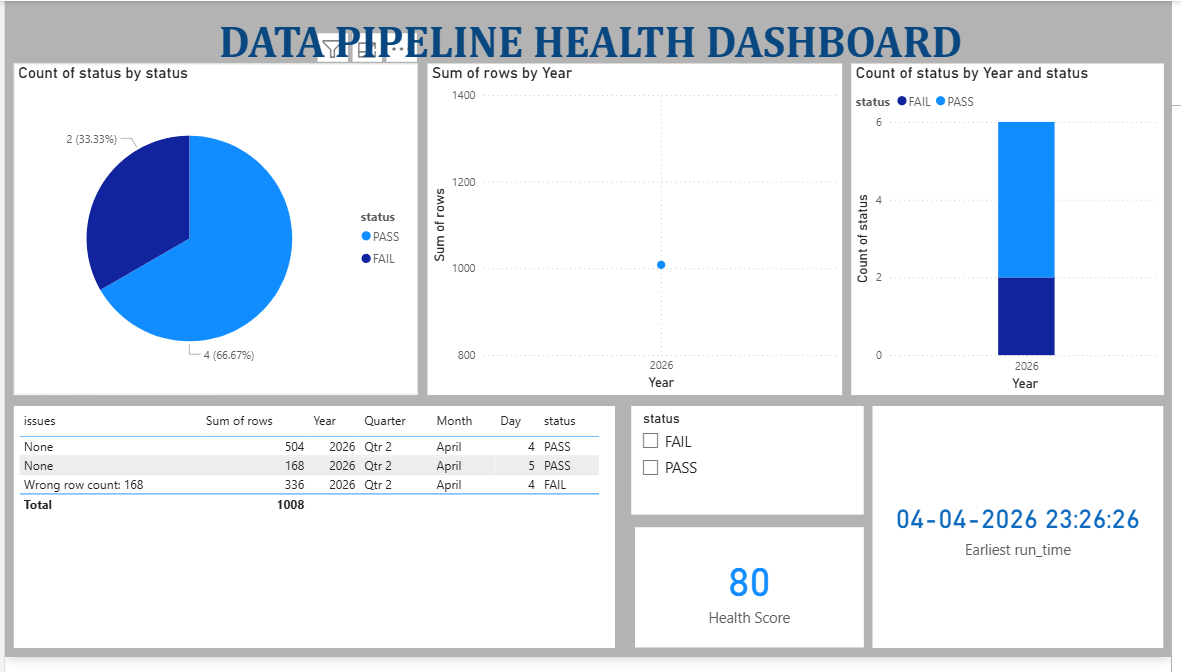

This screenshot's page, from the dashboard's own definition file:
{"tool":"powerbi","page":{"name":"Page 1","canvas":[1280,720],"ordinal":0},"visuals":[{"type":"pieChart","fields":{"Category":["pipeline_logs.status"],"Y":["CountNonNull(pipeline_logs.status)"]},"box":[9.7,68.1,443.1,363.9],"z":0},{"type":"lineChart","fields":{"Category":["pipeline_logs.run_time.Variation.Date Hierarchy.Year","pipeline_logs.run_time.Variation.Date Hierarchy.Quarter","pipeline_logs.run_time.Variation.Date Hierarchy.Month","pipeline_logs.run_time.Variation.Date Hierarchy.Day"],"Y":["Sum(pipeline_logs.rows)"]},"box":[463.9,68.1,455.6,363.9],"z":1000},{"type":"tableEx","fields":{"Values":["pipeline_logs.issues","Sum(pipeline_logs.rows)","pipeline_logs.run_time.Variation.Date Hierarchy.Year","pipeline_logs.run_time.Variation.Date Hierarchy.Quarter","pipeline_logs.run_time.Variation.Date Hierarchy.Month","pipeline_logs.run_time.Variation.Date Hierarchy.Day","pipeline_logs.status"]},"box":[9.7,444.4,659.7,265.3],"z":2000},{"type":"slicer","fields":{"Values":["pipeline_logs.status"]},"box":[687.5,444.4,255.6,119.4],"z":3000},{"type":"textbox","box":[5.6,11.1,1275,83.3],"z":4000},{"type":"card","fields":{"Values":["pipeline_logs.Health Score"]},"box":[691.7,577.8,251.4,131.9],"z":5000},{"type":"columnChart","fields":{"Category":["pipeline_logs.run_time.Variation.Date Hierarchy.Year","pipeline_logs.run_time.Variation.Date Hierarchy.Quarter","pipeline_logs.run_time.Variation.Date Hierarchy.Month","pipeline_logs.run_time.Variation.Date Hierarchy.Day"],"Y":["CountNonNull(pipeline_logs.status)"],"Series":["pipeline_logs.status"]},"box":[929.2,68.1,343.1,363.9],"z":5001},{"type":"card","fields":{"Values":["Min(pipeline_logs.run_time)"]},"box":[952.8,444.4,319.4,265.3],"z":5002}]}

Visuals, with their boxes in screenshot pixels (x1, y1, x2, y2), scaled from the page's 1280x720 canvas onto the 1181x672 screenshot:
pieChart - pipeline_logs.status x CountNonNull(pipeline_logs.status): 9/64/418/403
lineChart - pipeline_logs.run_time.Variation.Date Hierarchy.Year x pipeline_logs.run_time.Variation.Date Hierarchy.Quarter: 428/64/848/403
tableEx - pipeline_logs.issues x Sum(pipeline_logs.rows): 9/415/618/662
slicer - pipeline_logs.status: 634/415/870/526
textbox: 5/10/1180/88
card - pipeline_logs.Health Score: 638/539/870/662
columnChart - pipeline_logs.run_time.Variation.Date Hierarchy.Year x pipeline_logs.run_time.Variation.Date Hierarchy.Quarter: 857/64/1174/403
card - Min(pipeline_logs.run_time): 879/415/1174/662
